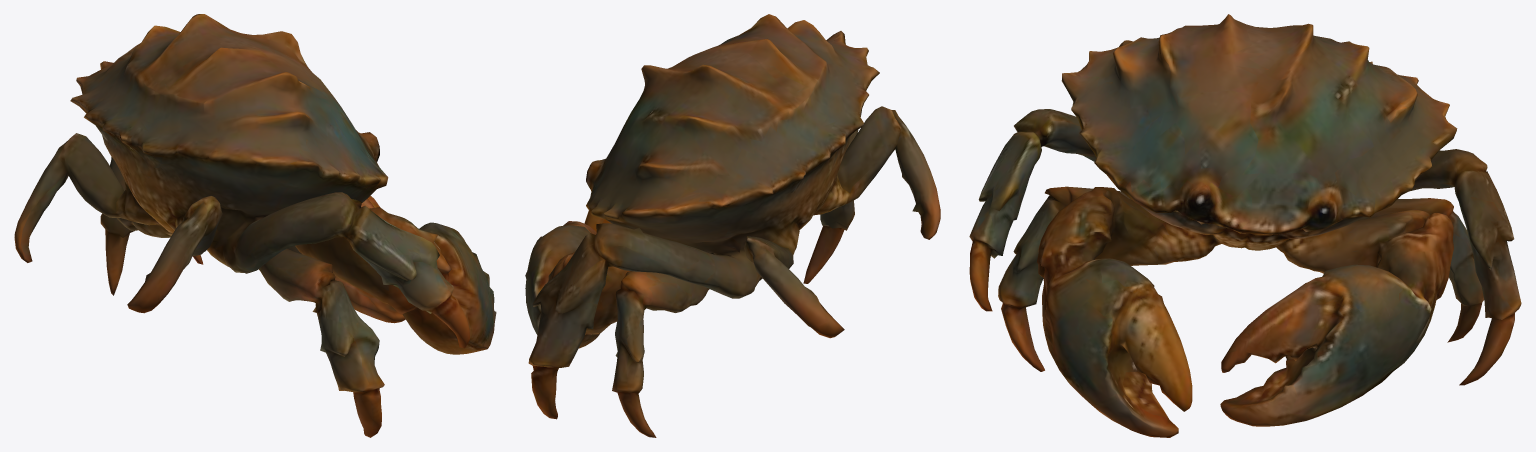
The model's file is crab.glb.
3 renders of one model, left to right at view 1: azimuth 30°, elevation 25°; view 2: azimuth 150°, elevation 25°; view 3: azimuth 270°, elevation 25°, orthographic. The views are drawn at different scales.
Visible parts, largest first — view 1: tripo_node_cca70357-2f66-408b-8662-3ce81bbc3756; view 2: tripo_node_cca70357-2f66-408b-8662-3ce81bbc3756; view 3: tripo_node_cca70357-2f66-408b-8662-3ce81bbc3756.
Boxes of the visible parts, bbox=[...] form: tripo_node_cca70357-2f66-408b-8662-3ce81bbc3756: bbox=[14, 14, 496, 437]; tripo_node_cca70357-2f66-408b-8662-3ce81bbc3756: bbox=[525, 14, 940, 437]; tripo_node_cca70357-2f66-408b-8662-3ce81bbc3756: bbox=[969, 14, 1521, 437].
Bounding box in the file's own units: 0.2266 × 0.2 × 0.3023.
1 material, 1 textured.
